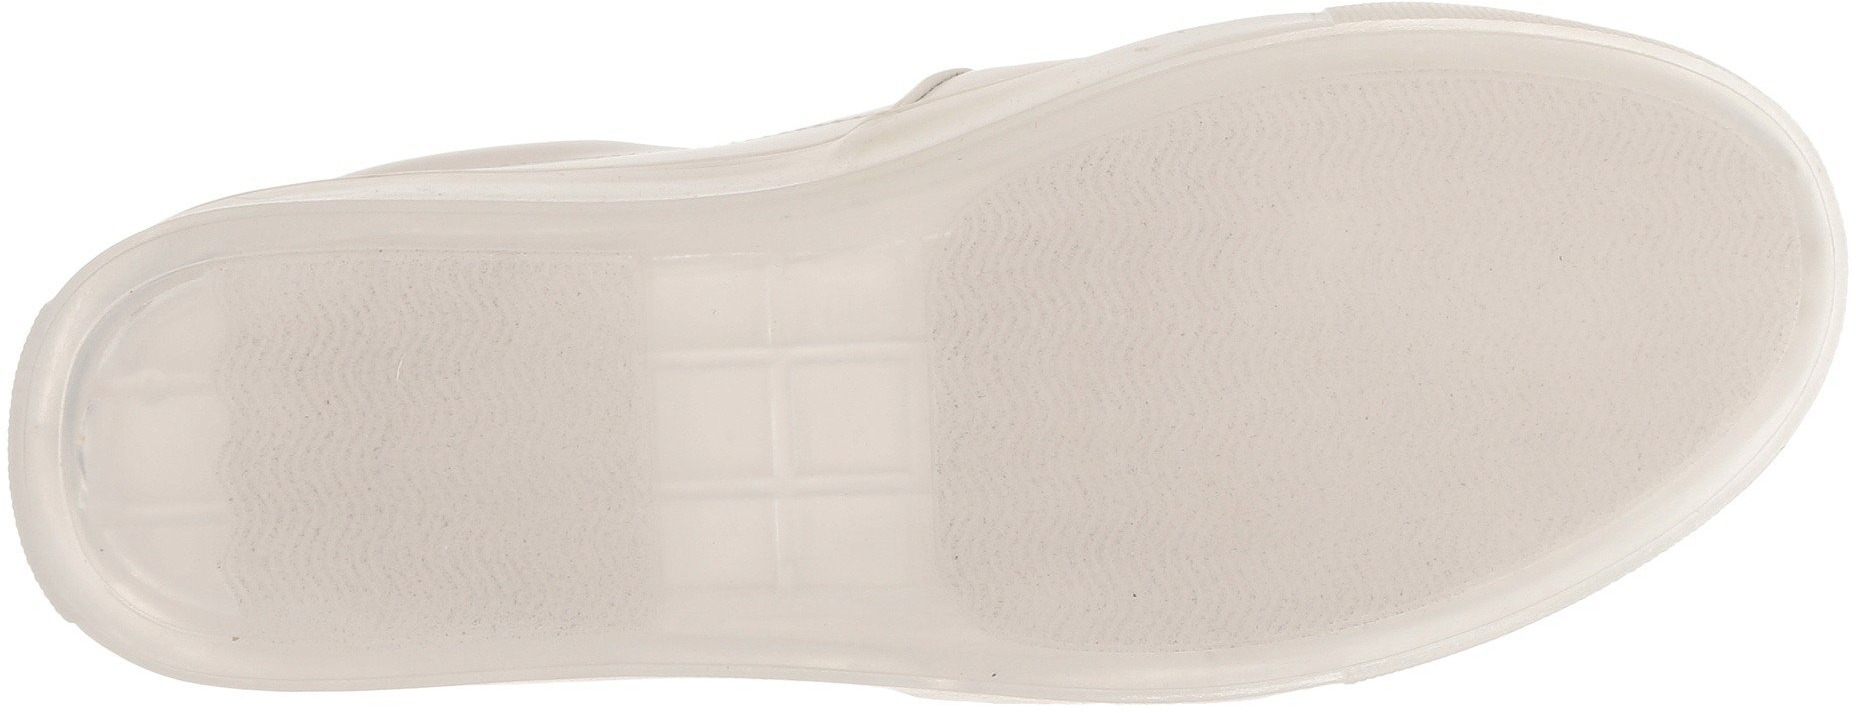chevron: (927, 73, 1802, 654), (213, 256, 643, 629)
other: (1259, 94, 1712, 510), (250, 257, 629, 631), (94, 385, 218, 508)
quad: (643, 343, 935, 609), (647, 237, 921, 497)
